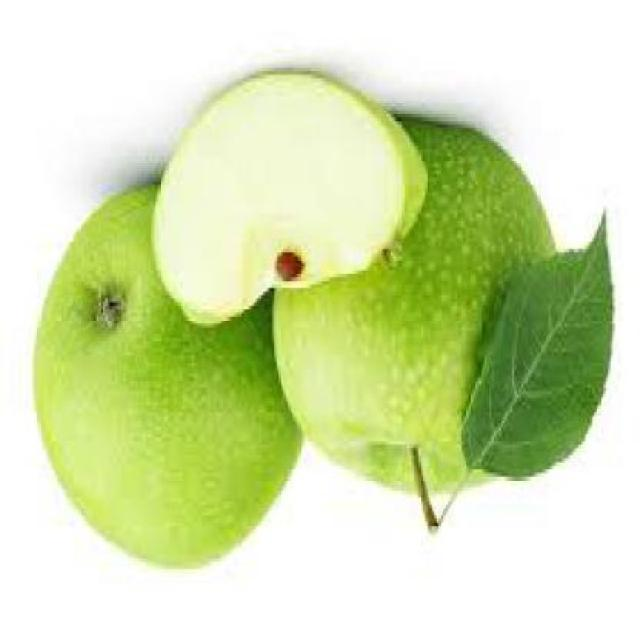BIODEGRADABLE: (274, 118, 554, 491), (36, 185, 301, 566), (152, 71, 428, 324), (464, 218, 612, 477)
